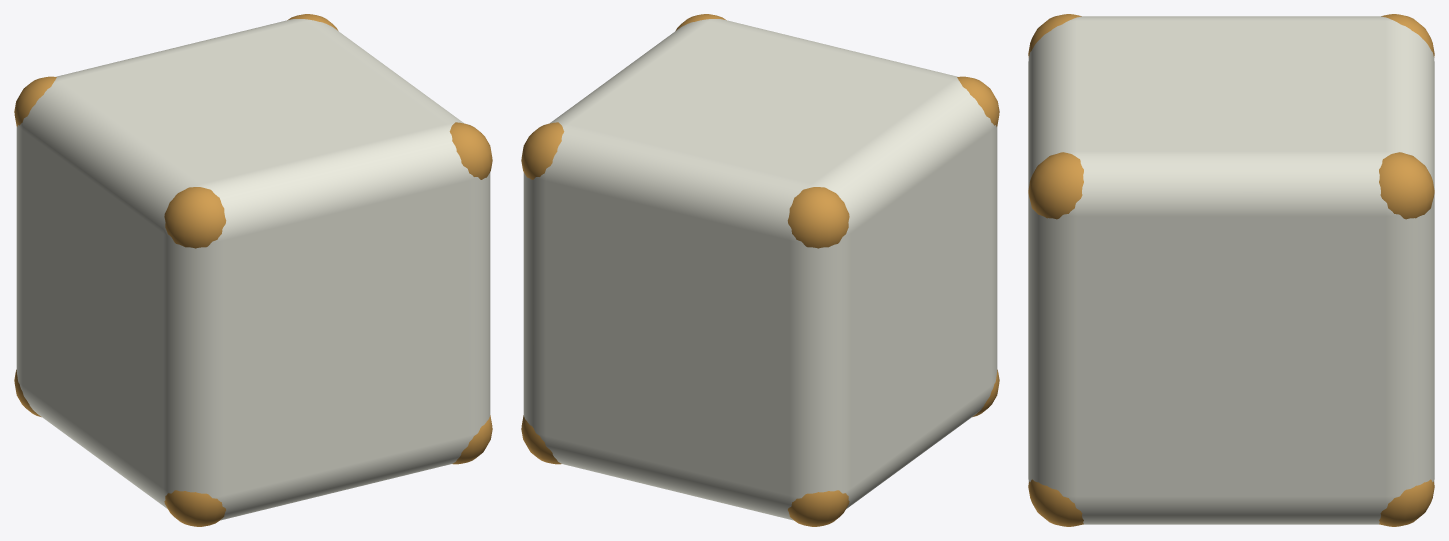
Rendered from thunder.obj.
The picture shows the model from 3 angles, left to right: view 1: azimuth 30°, elevation 25°; view 2: azimuth 150°, elevation 25°; view 3: azimuth 270°, elevation 25°; orthographic projection. The views are drawn at different scales.
Size of the model in its own units: 1 by 1 by 1.
